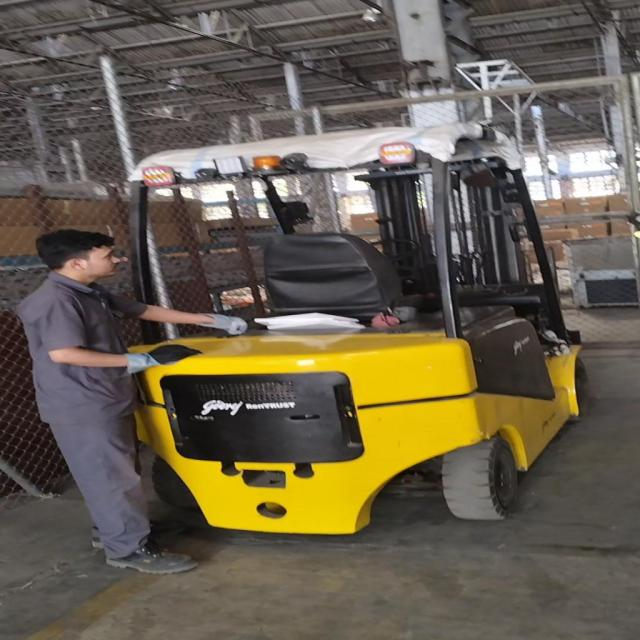Gloves-Detection: (131, 347, 186, 374), (195, 311, 252, 335)
